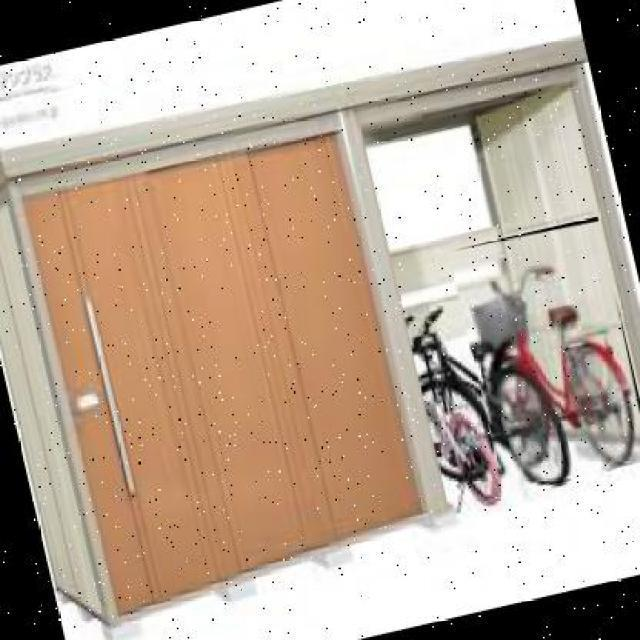bicycle: (451, 216, 640, 498), (371, 276, 586, 511)
